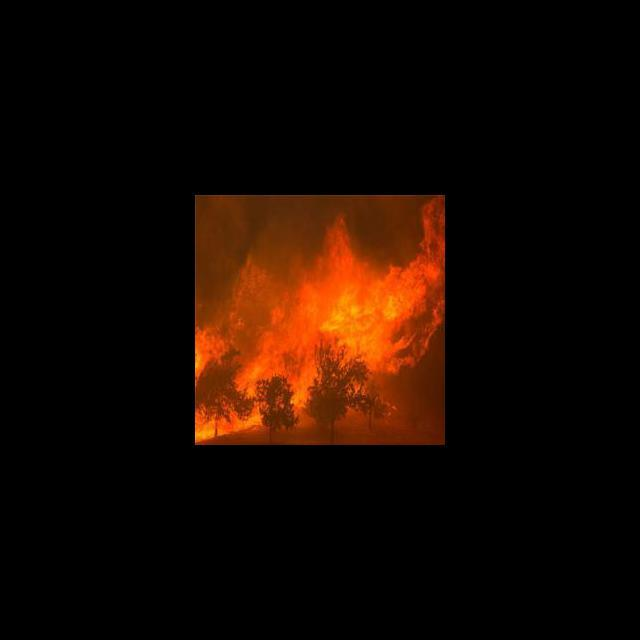Fire: (196, 195, 445, 443)
